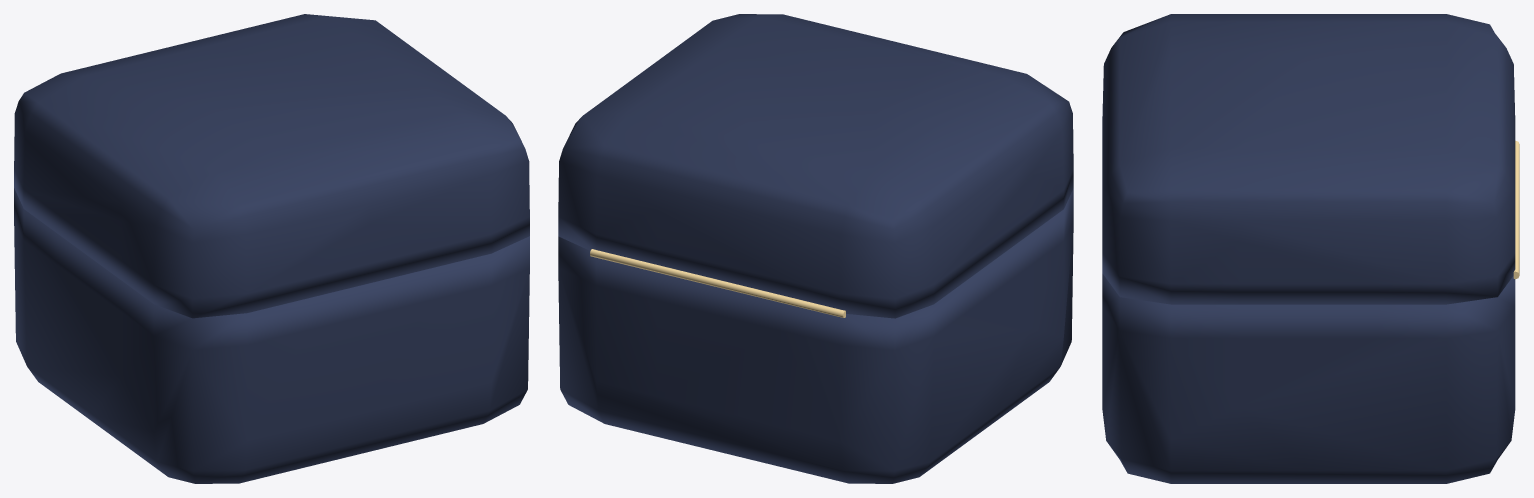
The model's file is RingBoxClosed_LOD1.obj.
3 renders of one model, left to right at view 1: azimuth 30°, elevation 25°; view 2: azimuth 150°, elevation 25°; view 3: azimuth 270°, elevation 25°, orthographic. The views are drawn at different scales.
Visible parts, largest first — view 1: VelvetNavy; view 2: VelvetNavy, Gold18k; view 3: VelvetNavy, Gold18k.
Part boxes in pixels (x1=…): VelvetNavy: x1=14, y1=14, x2=529, y2=483; VelvetNavy: x1=558, y1=14, x2=1073, y2=483; Gold18k: x1=590, y1=249, x2=845, y2=317; VelvetNavy: x1=1102, y1=14, x2=1515, y2=483; Gold18k: x1=1513, y1=140, x2=1519, y2=279.
Size of the model in its own units: 0.052 by 0.042 by 0.0485.
